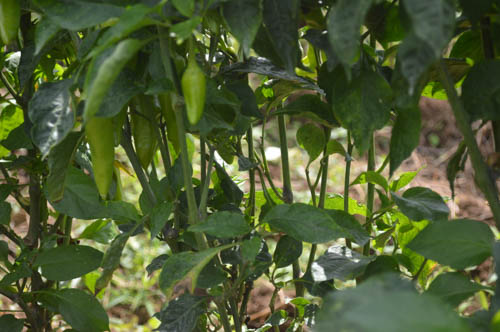ChiliPepper: (86, 114, 112, 207), (132, 91, 157, 173), (180, 72, 206, 123)
